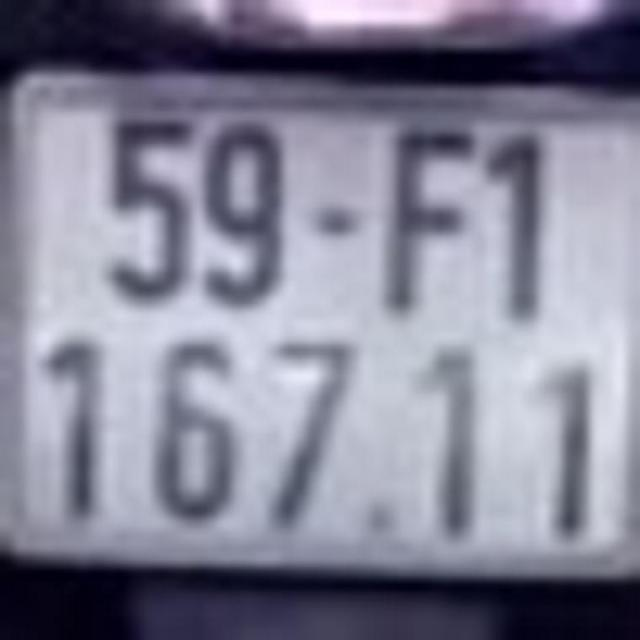5: (113, 113, 194, 304)
6: (150, 330, 246, 543)
7: (255, 328, 356, 548)
9: (206, 116, 292, 308)
F: (382, 121, 480, 321), (32, 328, 122, 525), (426, 330, 488, 552), (489, 124, 547, 327), (538, 350, 596, 546)
